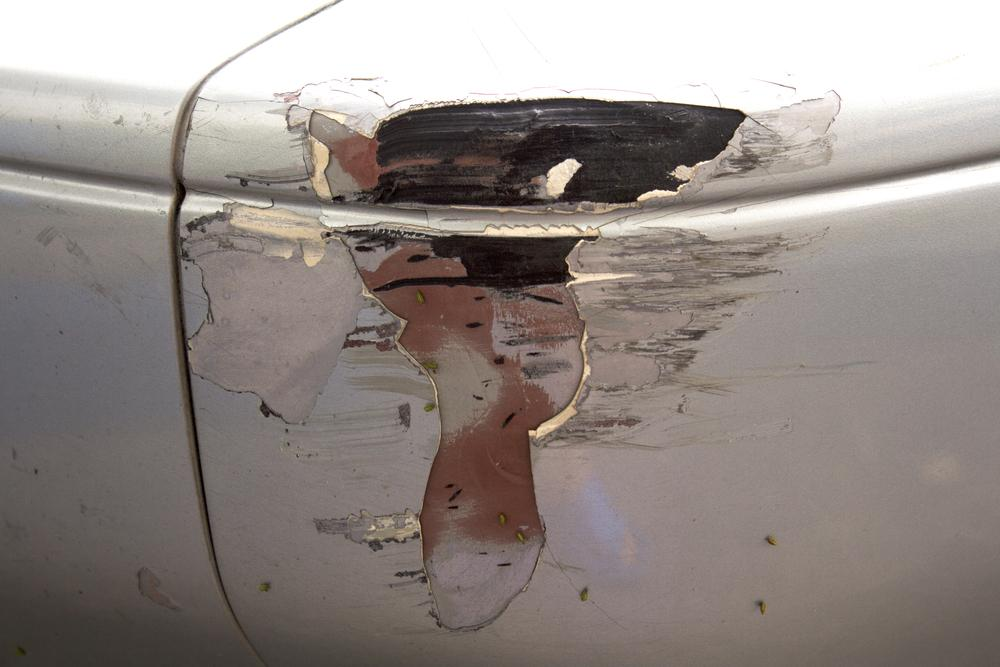scratch: (182, 71, 883, 659)
